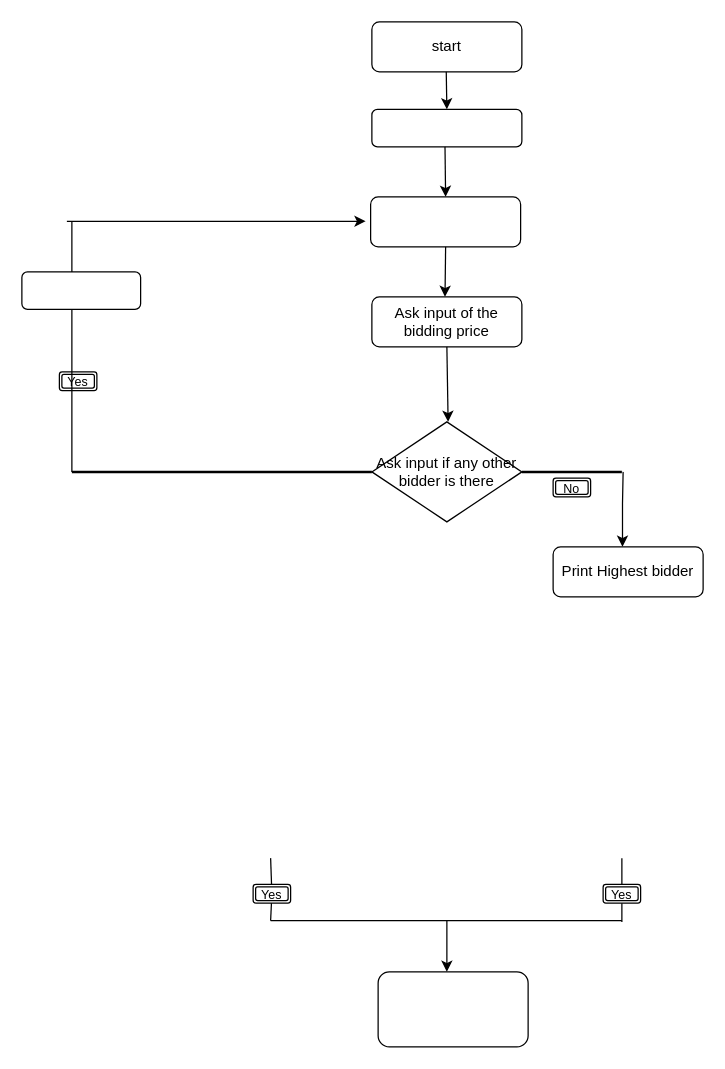
Image size: 725x1069. Some labels were removed from this diagram. The centre of each missing label's shape, as x and y in pixels:
"Ask input of the bidder name" belongs at pixel 445 221.
"Clear Screen" belongs at pixel 81 290.
"Game Over" belongs at pixel 452 1009.
"Print Logo" belongs at pixel 446 127.
